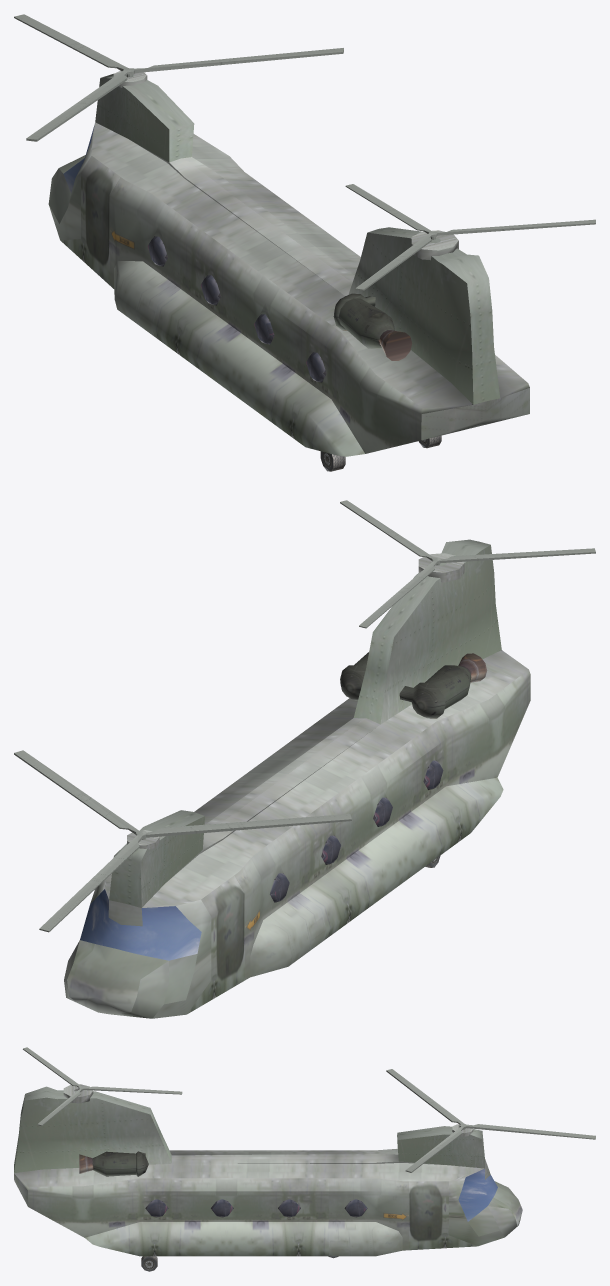
The model's file is China_Full_Heli.fbx.
The picture shows the model from 3 angles, top to bottom: view 1: azimuth 30°, elevation 25°; view 2: azimuth 150°, elevation 25°; view 3: azimuth 270°, elevation 25°; orthographic projection. The views are drawn at different scales.
Parts seen in each view (by area): view 1: China_Helicopter; view 2: China_Helicopter; view 3: China_Helicopter.
Boxes of the visible parts, x1,y1,x2,y2 form: China_Helicopter: (14,14,595,471); China_Helicopter: (14,500,595,1018); China_Helicopter: (14,1047,595,1271).
Size of the model in its own units: 204 by 160 by 492.
Materials: 1 (1 with a texture image).
